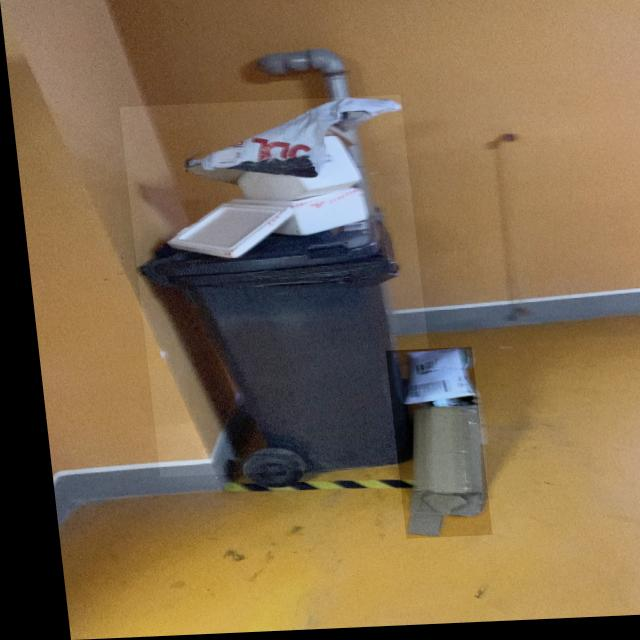garbage: (377, 351, 479, 542)
overflow: (117, 98, 430, 478)
